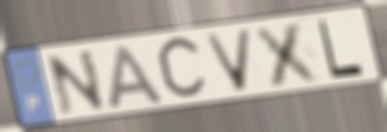A: (106, 43, 168, 111)
C: (153, 32, 211, 105)
L: (316, 17, 367, 81)
N: (43, 47, 109, 118)
V: (201, 26, 255, 94)
X: (250, 18, 327, 89)
